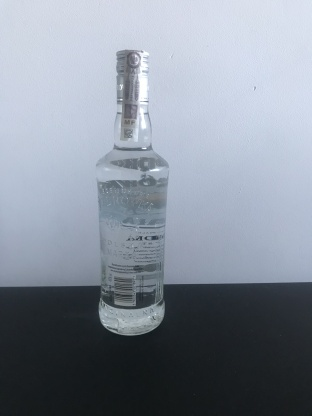nakretka: (113, 45, 151, 107)
